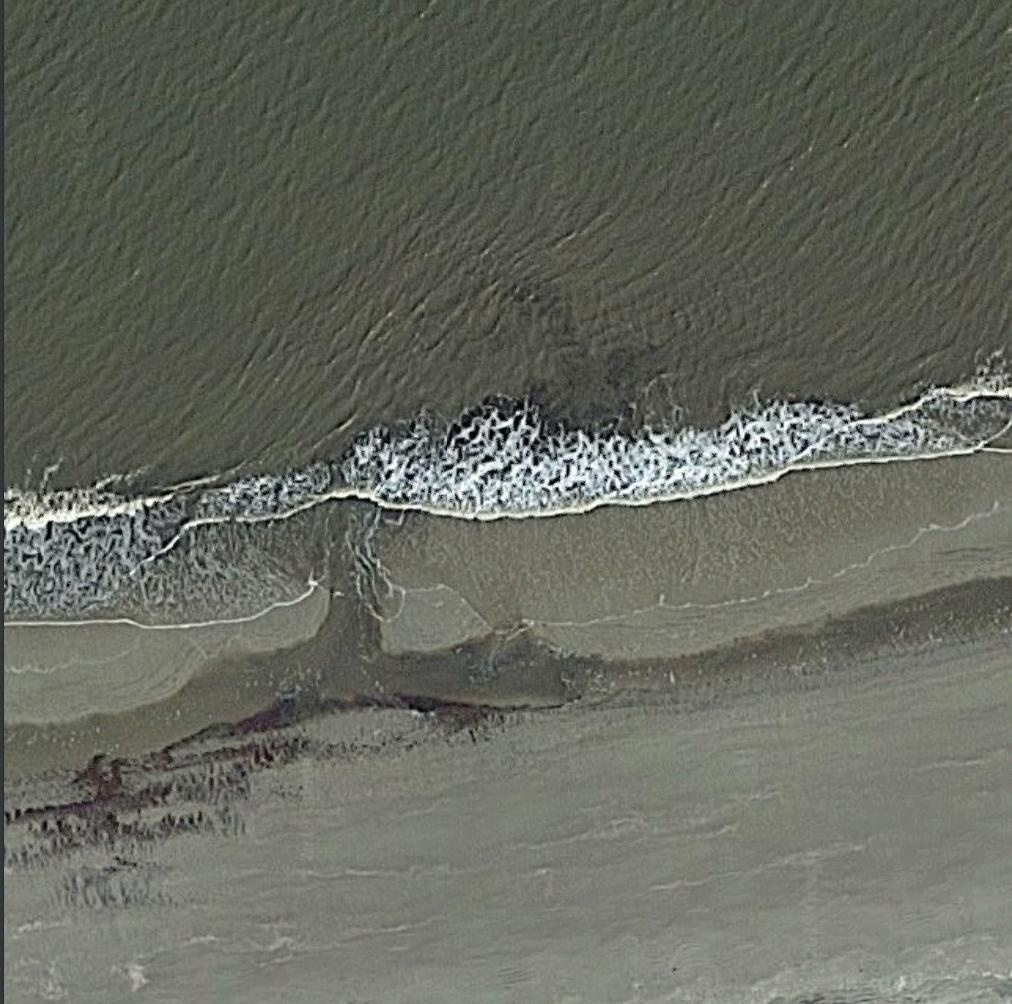rip_current: (303, 434, 392, 562)
